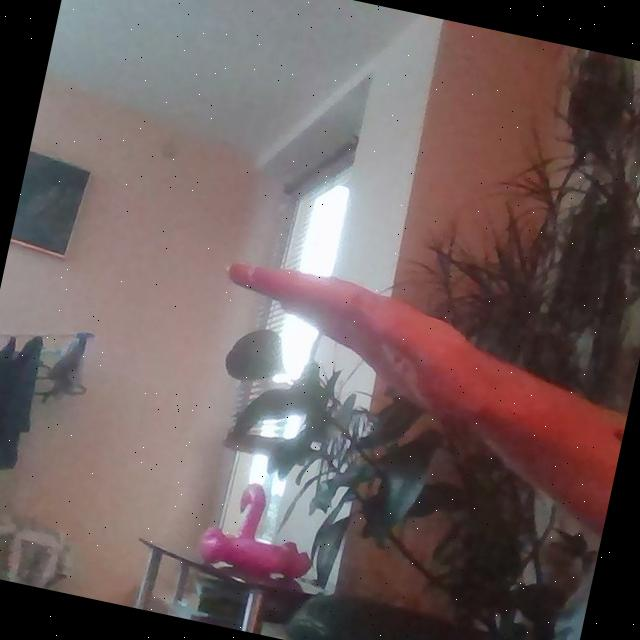papper: (195, 250, 535, 460)
